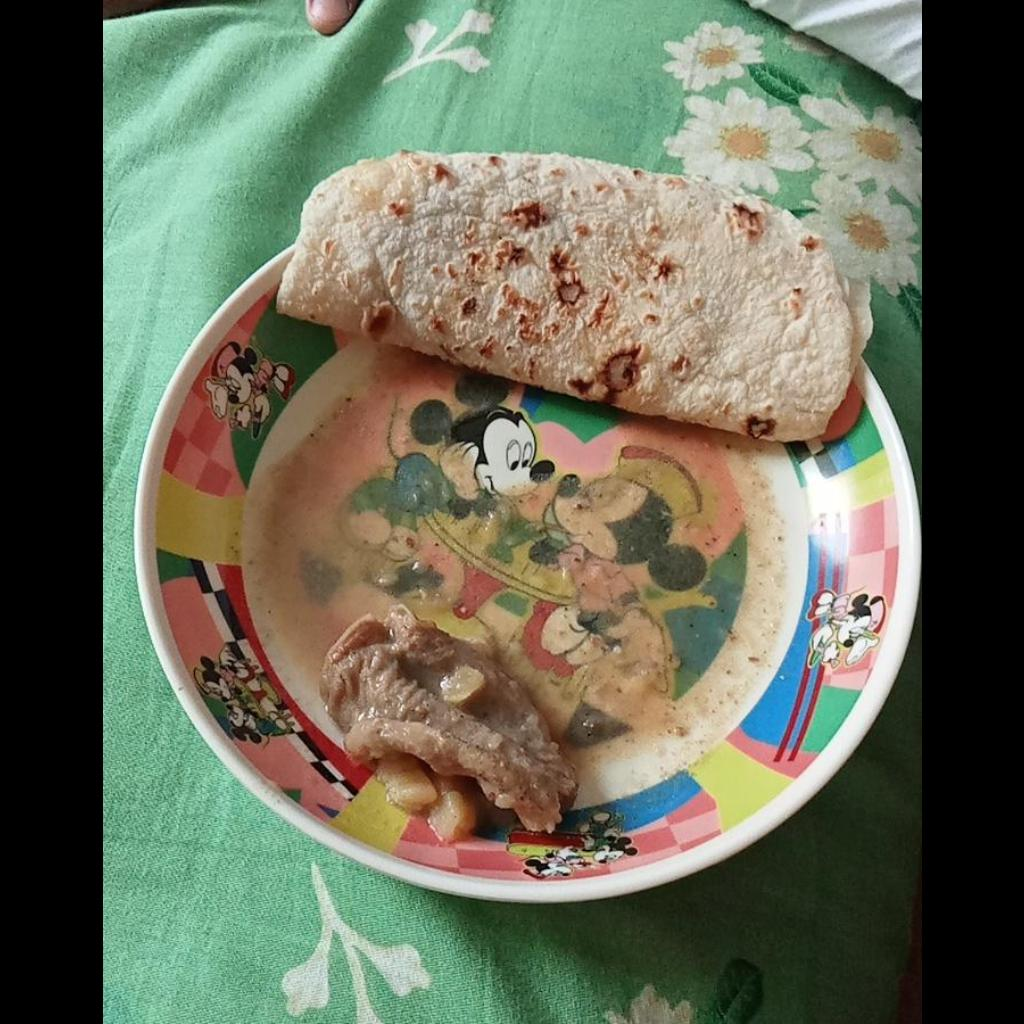chicken: (317, 607, 573, 836)
ruti: (276, 148, 872, 444)
